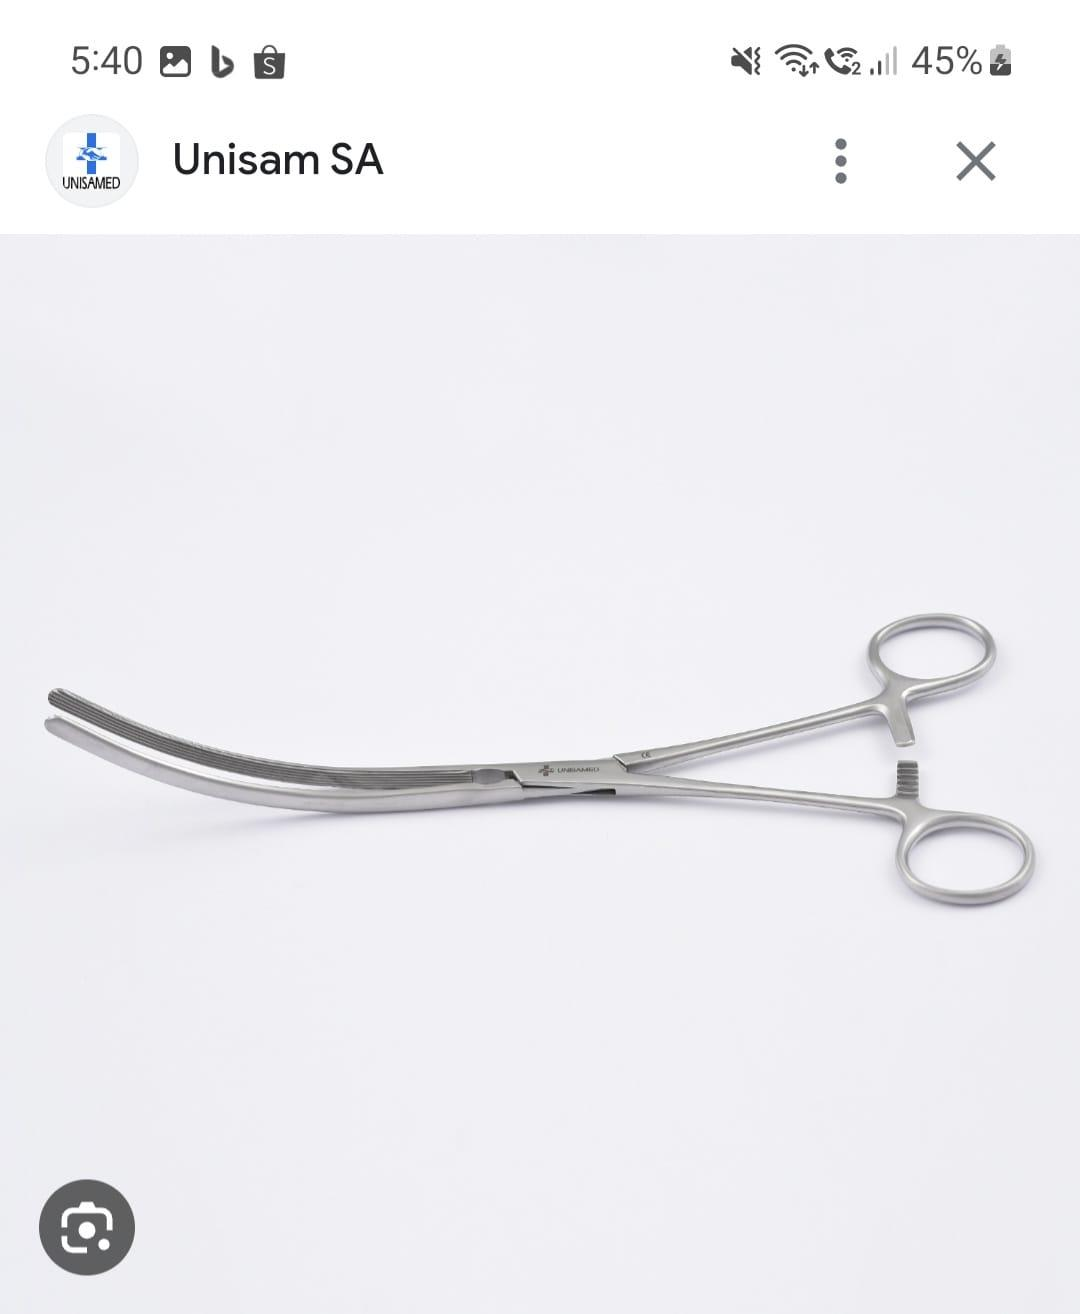Doyel Instestinal Forceps: (38, 598, 1056, 937)
